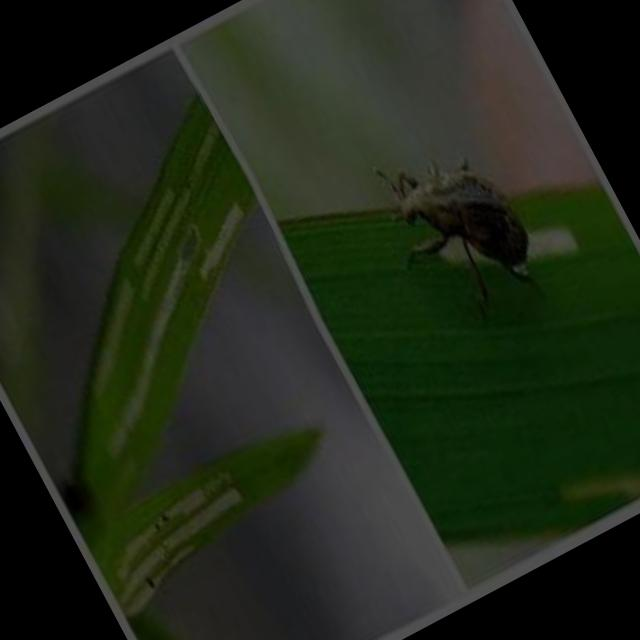rice-bug: (378, 126, 544, 310)
